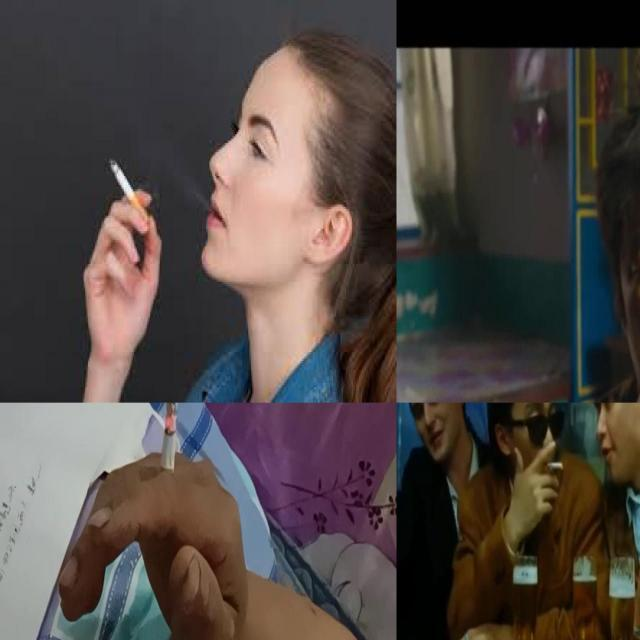smoke: (58, 402, 260, 640), (78, 157, 176, 384), (546, 461, 564, 472)
